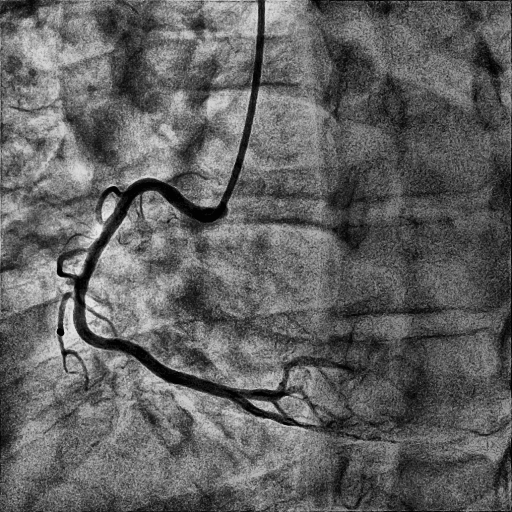pborca: (239, 357, 326, 401)
pda: (234, 398, 399, 444)
rca: (73, 177, 241, 401)
